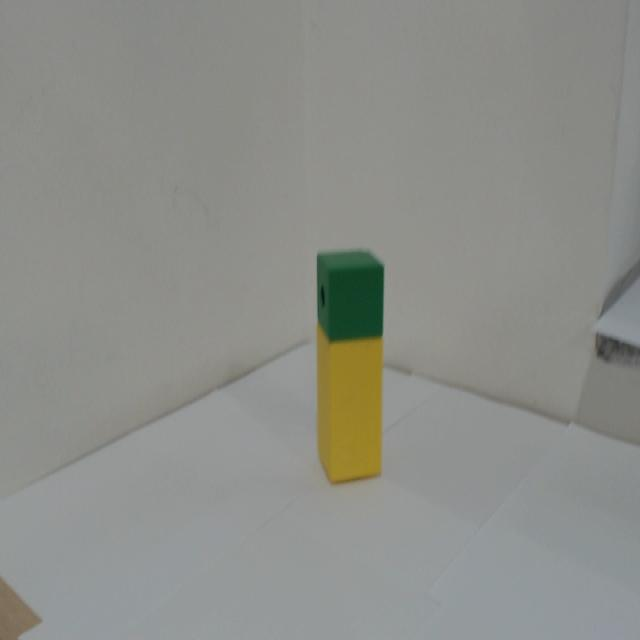cube: (316, 248, 386, 345)
